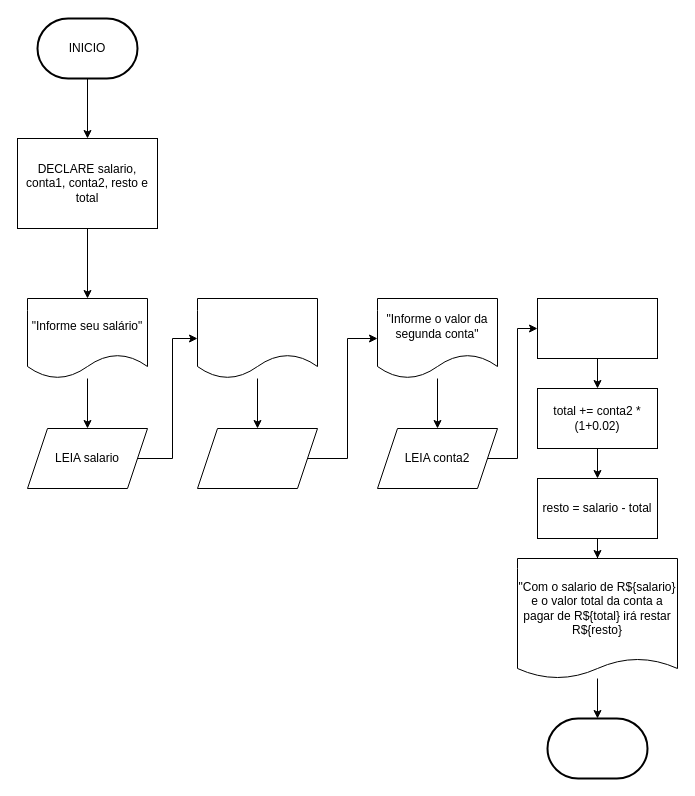
The diagram is 695 pixels wide and 796 high, and some of its shapes have lost their labels. Here are the shapes that lost their labels. From the top down, the centre of each, then its label:
pixel 257 338: "Informe o valor da primeira conta"
pixel 597 328: total += conta1 * (1+0.02)
pixel 257 458: LEIA conta1
pixel 597 748: FIM
